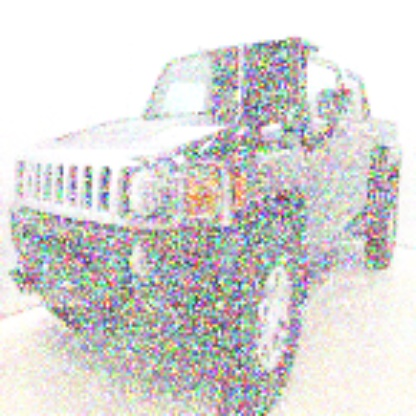Vehicle: (8, 36, 406, 415)
